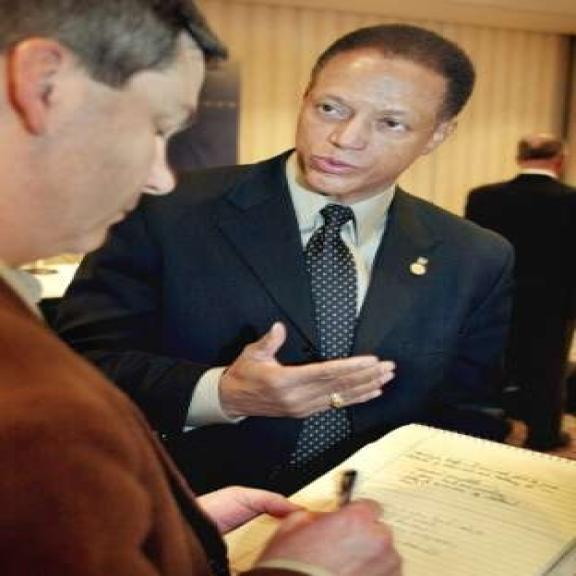face: (294, 45, 452, 197)
